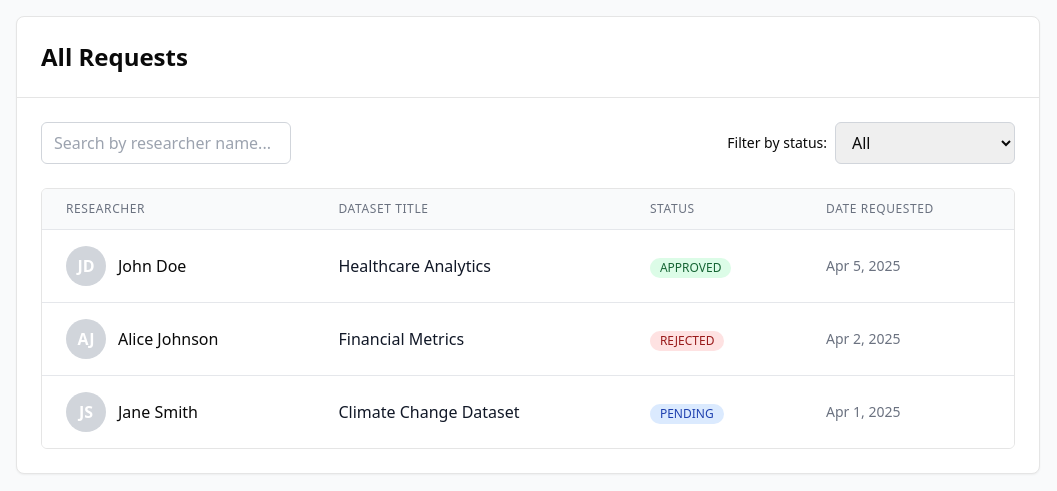
Scenario: AllRequests Component › filters requests by status
The width and height of the screenshot is (1057, 491).
Expected: the text "Jane Smith" is shown, x1=118 y1=400 x2=198 y2=424
Expected: the text "John Doe" is shown, x1=118 y1=254 x2=186 y2=278
# Filter by pending status
Select "Pending" in the dropdown at coordinates (925, 143), box x1=835 y1=122 x2=1015 y2=164
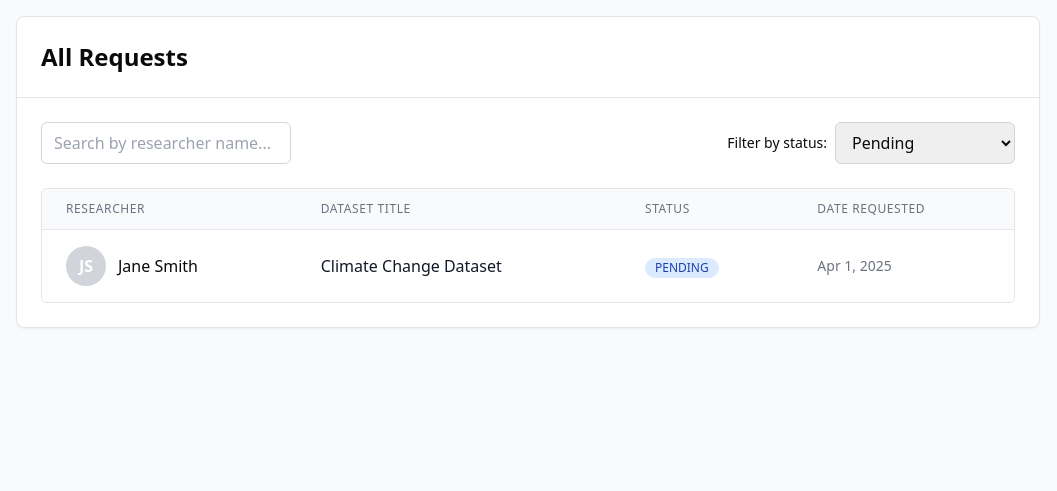
Expected: the text "Jane Smith" is shown, x1=118 y1=254 x2=198 y2=278
Now the text "John Doe" is gone
Now the text "Alice Johnson" is gone
